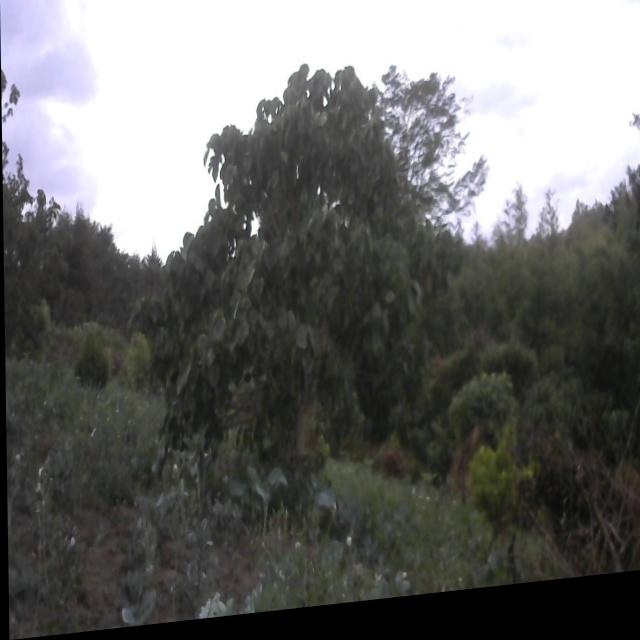other: (153, 33, 438, 561)
